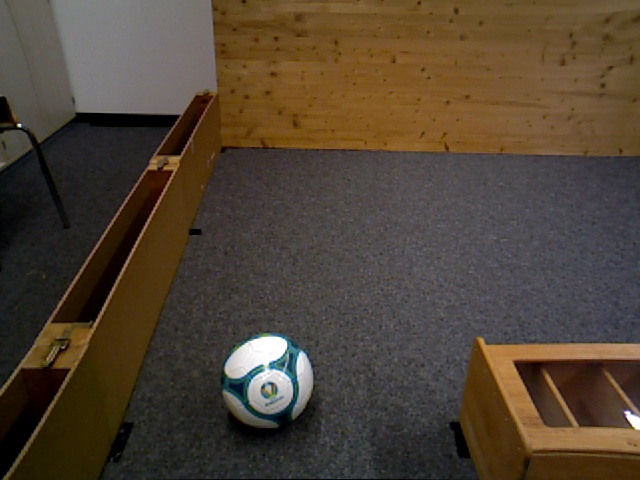kick: (220, 333, 314, 432)
